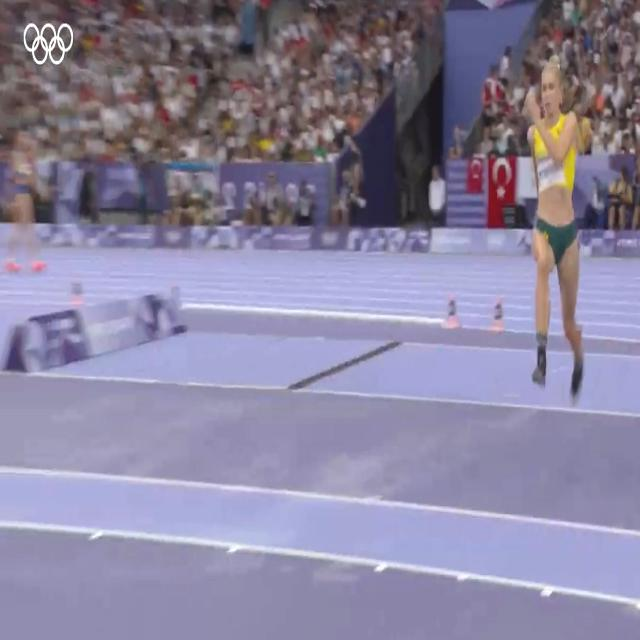run: (521, 54, 588, 410)
